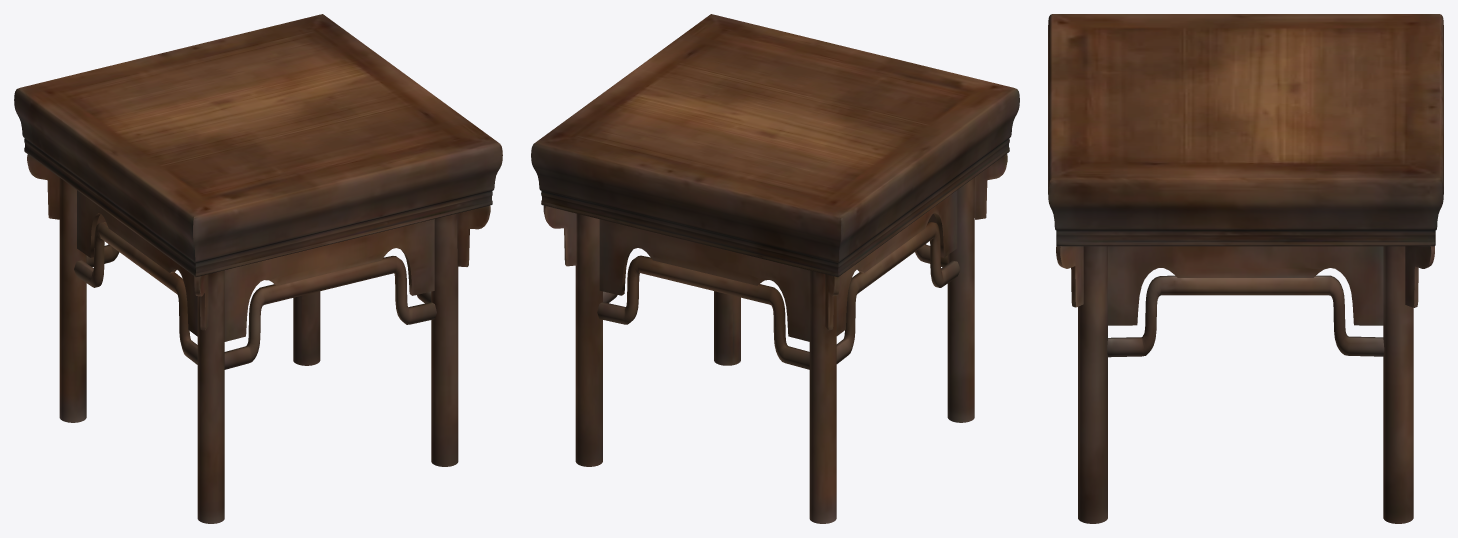
The model's file is ph-chinese-tea-table.glb.
3 renders of one model, left to right at view 1: azimuth 30°, elevation 25°; view 2: azimuth 150°, elevation 25°; view 3: azimuth 270°, elevation 25°, orthographic. The views are drawn at different scales.
Visible parts, largest first — view 1: chinese_tea_table; view 2: chinese_tea_table; view 3: chinese_tea_table.
Part boxes in pixels (left/top/right/bottom): chinese_tea_table: left=14, top=14, right=502, bottom=523; chinese_tea_table: left=531, top=14, right=1019, bottom=523; chinese_tea_table: left=1048, top=14, right=1443, bottom=523.
Size of the model in its own units: 1 by 1 by 1.
1 material, 1 textured.
